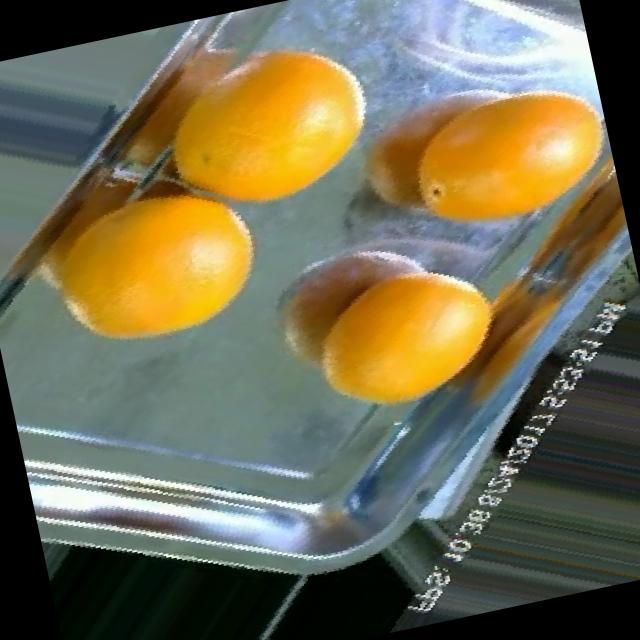Fruit: (238, 209, 472, 451), (51, 154, 292, 373), (38, 507, 195, 640), (460, 0, 583, 41)
